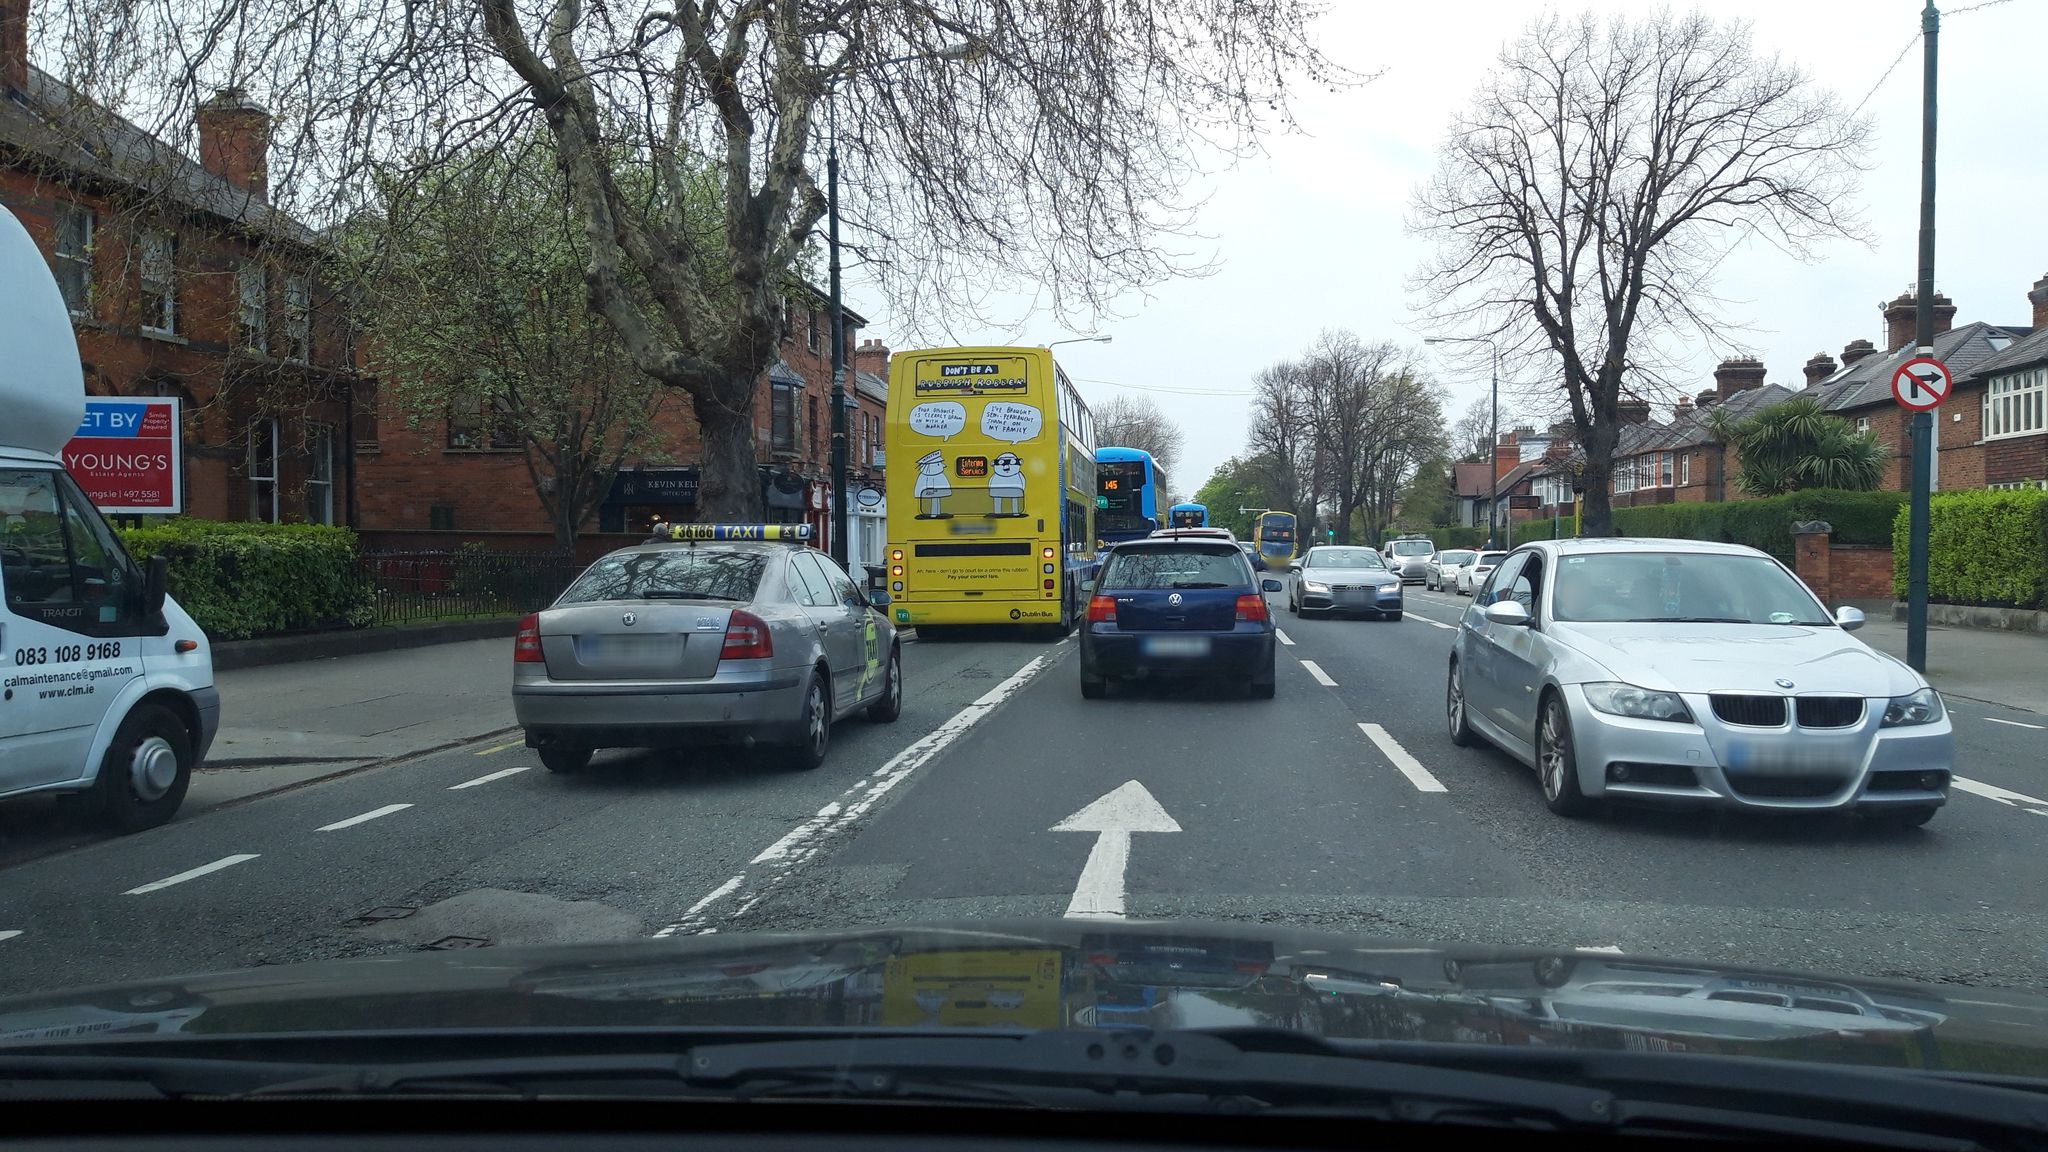property sign: (68, 373, 191, 535)
